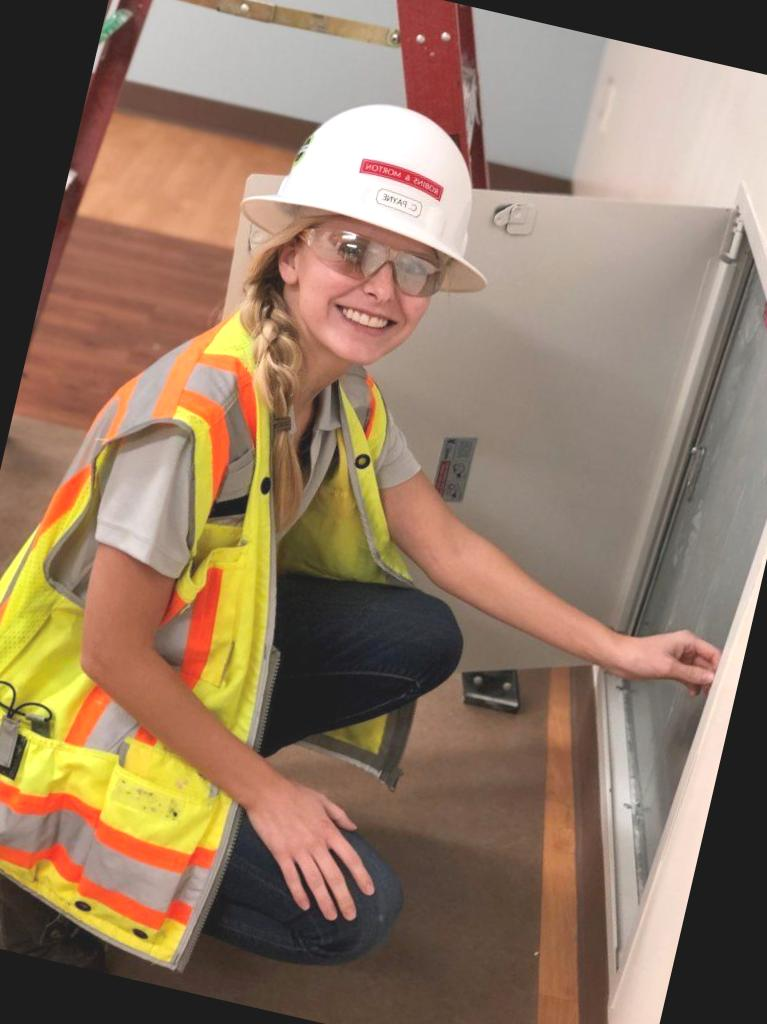helmet: (202, 74, 540, 318)
person: (0, 14, 600, 995)
